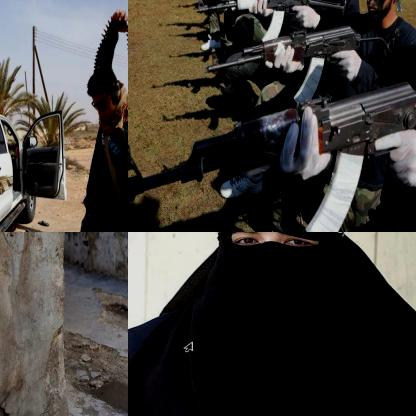rifle: (128, 79, 415, 231), (204, 23, 401, 113), (192, 0, 350, 49)
